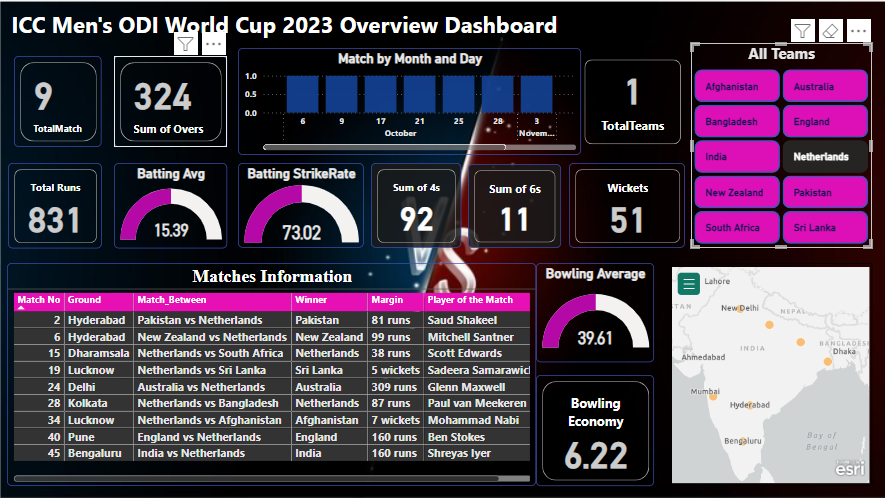

This screenshot's page, from the dashboard's own definition file:
{"tool":"powerbi","page":{"name":"ICC World Cup 2023 Overall Tournament Overview","canvas":[1280,720],"ordinal":0},"visuals":[{"type":"cardVisual","fields":{"Data":["Sum(bowling_summary.Overs)"]},"box":[165.9,84.1,162.5,130.7],"z":0},{"type":"cardVisual","fields":{"Data":["Key_Measures.wickets"]},"box":[820.8,237.6,167,122.4],"z":1000},{"type":"cardVisual","fields":{"Data":["Key_Measures.Total Runs"]},"box":[12.5,237.5,135.2,122.7],"z":2000},{"type":"lineClusteredColumnComboChart","title":"Match by Month and Day","fields":{"Category":["matches_schedule_results.Date.Variation.Date Hierarchy.Month","matches_schedule_results.Date.Variation.Date Hierarchy.Day"],"Y":["CountNonNull(matches_schedule_results.Match No)"]},"box":[344.2,72,493.9,154.1],"z":3000},{"type":"tableEx","title":"     Matches Information","fields":{"Values":["matches_schedule_results.Match No","matches_schedule_results.Ground","batting_summary_out.Match_Between","matches_schedule_results.Winner","matches_schedule_results.Margin","matches_schedule_results.Player of the Match"]},"box":[11.5,381.6,761.8,321.1],"z":4000},{"type":"advancedSlicerVisual","title":"All Teams","fields":{"Values":["world_cup_players_info.team_name"]},"box":[996.5,64.8,260.6,295.2],"z":5000},{"type":"cardVisual","title":"4s","fields":{"Data":["Sum(batting_summary_out.4s)"]},"box":[535.7,237.6,129.6,122.4],"z":6000},{"type":"cardVisual","fields":{"Data":["Sum(batting_summary_out.6s)"]},"box":[675.4,239,133.9,121],"z":7000},{"type":"cardVisual","fields":{"Data":["Key_Measures.TotalTeams"]},"box":[838.1,83.5,149.8,132.5],"z":8000},{"type":"cardVisual","fields":{"Data":["Key_Measures.TotalMatchesCount"]},"box":[21.6,84.1,126.1,130.7],"z":9000},{"type":"cardVisual","fields":{"Data":["Key_Measures.Economy"]},"box":[773.1,543.3,170.1,159.7],"z":10000},{"type":"gauge","fields":{"Y":["Key_Measures.Bowling Average"]},"box":[773.3,381.6,169.9,142.6],"z":11000},{"type":"gauge","fields":{"Y":["Key_Measures.Batting Avg"]},"box":[165.9,237.5,162.5,122.7],"z":12000},{"type":"gauge","fields":{"Y":["Key_Measures.Strike rate"]},"box":[344.2,237.6,181.4,122.4],"z":13000},{"type":"textbox","box":[12.5,10.2,808,54.5],"z":14000},{"type":"esriVisual","fields":{"Location":["matches_schedule_results.Ground"]},"box":[963.4,381.6,293.8,321.1],"z":15000}]}

Visuals, with their boxes in screenshot pixels (x1, y1, x2, y2), scaled from the page's 1280x720 canvas onto the 885x498 screenshot:
cardVisual - Sum(bowling_summary.Overs): <bbox>115, 58, 227, 149</bbox>
cardVisual - Key_Measures.wickets: <bbox>568, 164, 683, 249</bbox>
cardVisual - Key_Measures.Total Runs: <bbox>9, 164, 102, 249</bbox>
"Match by Month and Day" lineClusteredColumnComboChart: <bbox>238, 50, 579, 156</bbox>
"     Matches Information" tableEx: <bbox>8, 264, 535, 486</bbox>
"All Teams" advancedSlicerVisual: <bbox>689, 45, 869, 249</bbox>
"4s" cardVisual: <bbox>370, 164, 460, 249</bbox>
cardVisual - Sum(batting_summary_out.6s): <bbox>467, 165, 560, 249</bbox>
cardVisual - Key_Measures.TotalTeams: <bbox>579, 58, 683, 149</bbox>
cardVisual - Key_Measures.TotalMatchesCount: <bbox>15, 58, 102, 149</bbox>
cardVisual - Key_Measures.Economy: <bbox>535, 376, 652, 486</bbox>
gauge - Key_Measures.Bowling Average: <bbox>535, 264, 652, 363</bbox>
gauge - Key_Measures.Batting Avg: <bbox>115, 164, 227, 249</bbox>
gauge - Key_Measures.Strike rate: <bbox>238, 164, 363, 249</bbox>
textbox: <bbox>9, 7, 567, 45</bbox>
esriVisual - matches_schedule_results.Ground: <bbox>666, 264, 869, 486</bbox>
